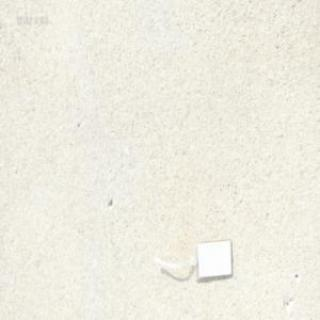LuggageTagtrack_idkeyframe: (150, 236, 232, 282)
